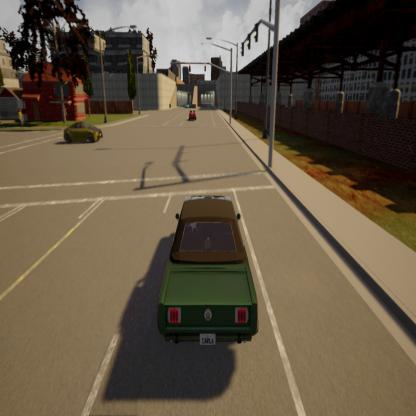Cars: (145, 178, 263, 374), (61, 118, 105, 150), (188, 110, 197, 124), (184, 102, 190, 110)
